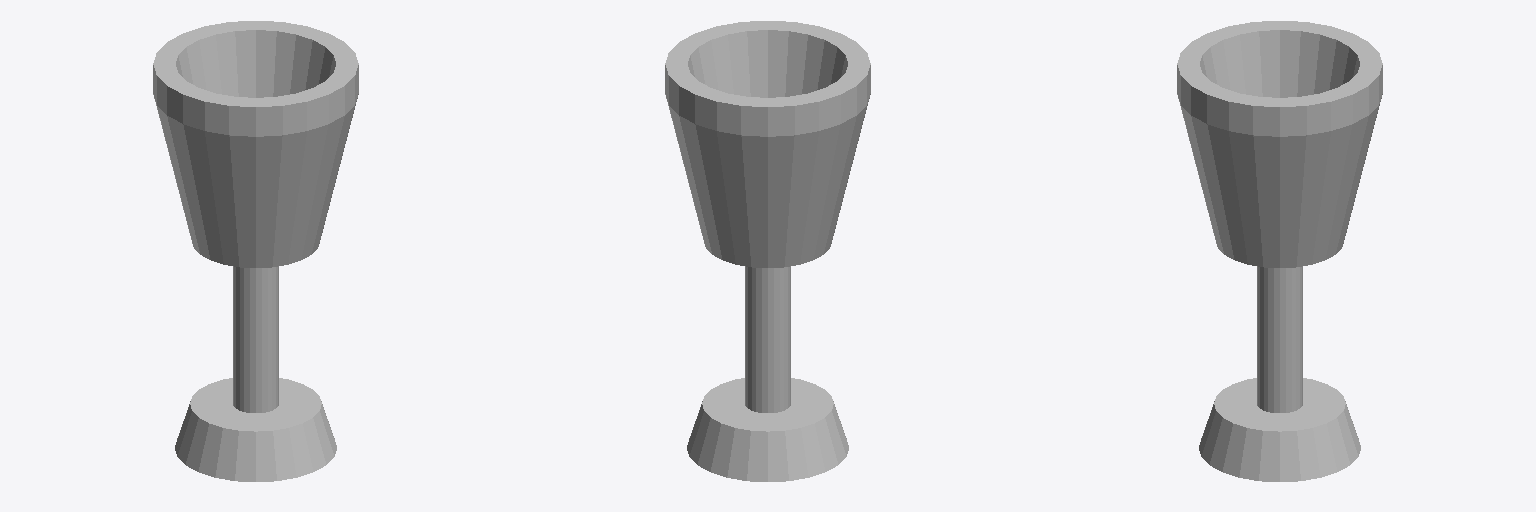
The model's file is detailChalice.obj.
3 views of the same model, side by side, from view 1: azimuth 30°, elevation 25°; view 2: azimuth 150°, elevation 25°; view 3: azimuth 270°, elevation 25° (orthographic).
Visible parts, largest first — view 1: detailChalice; view 2: detailChalice; view 3: detailChalice.
Boxes of the visible parts, x1,y1,x2,y2 form: detailChalice: [153, 21, 358, 481]; detailChalice: [665, 21, 870, 481]; detailChalice: [1177, 21, 1382, 481].
Bounding box in the file's own units: 0.0968 × 0.1995 × 0.0968.